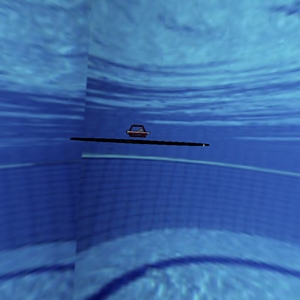circle: (55, 107, 223, 167)
submarine: (120, 120, 153, 145)
